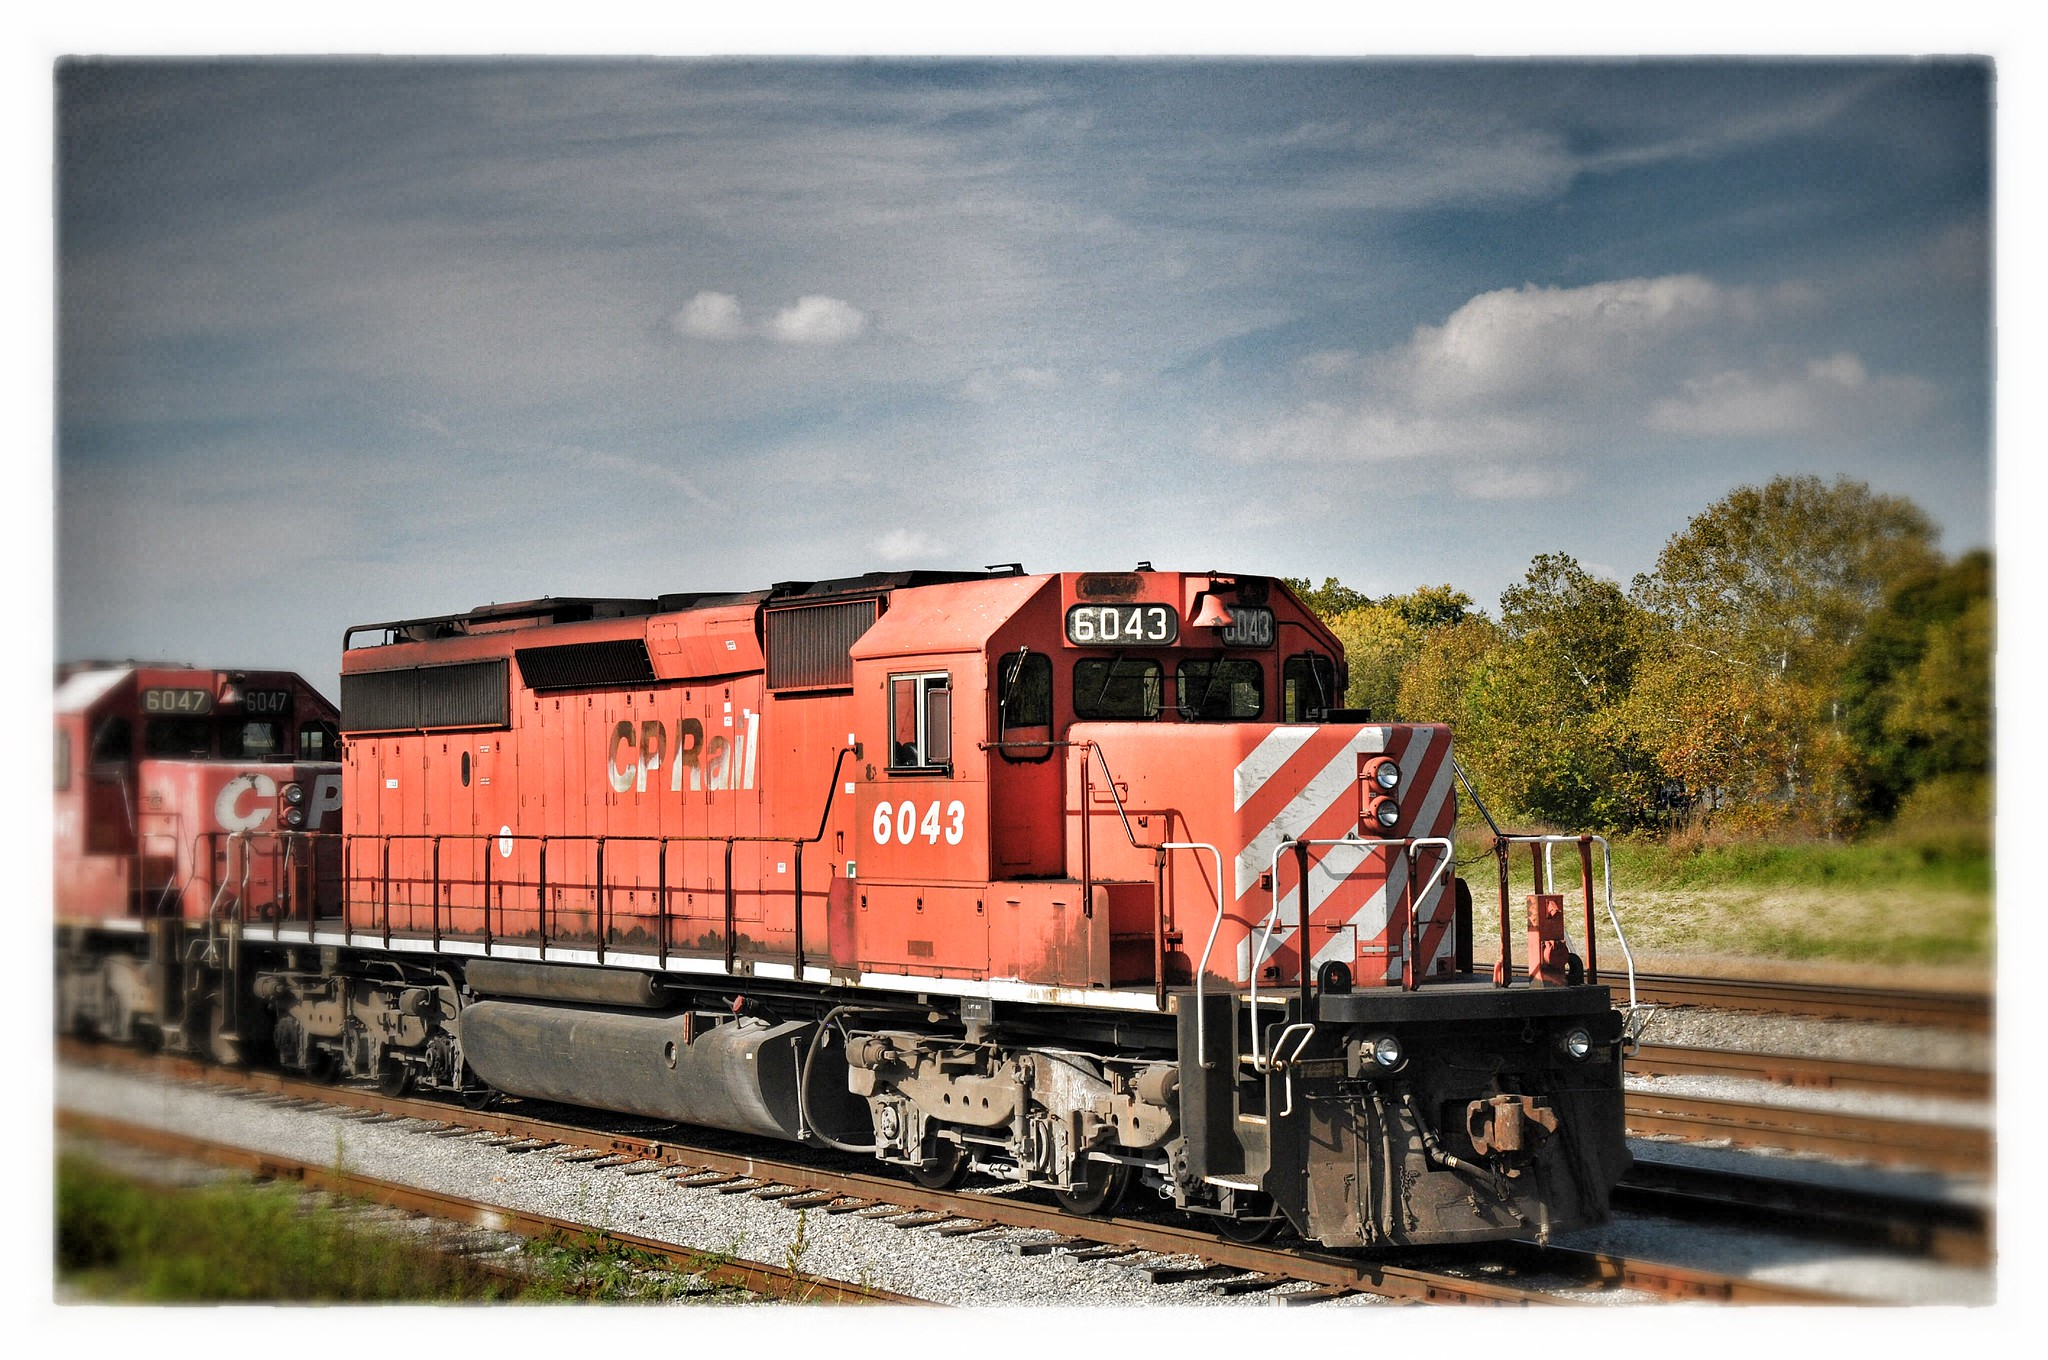train: (80, 546, 1638, 1277)
